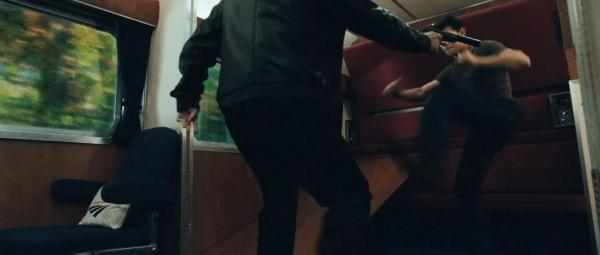Gun: (424, 23, 484, 49)
